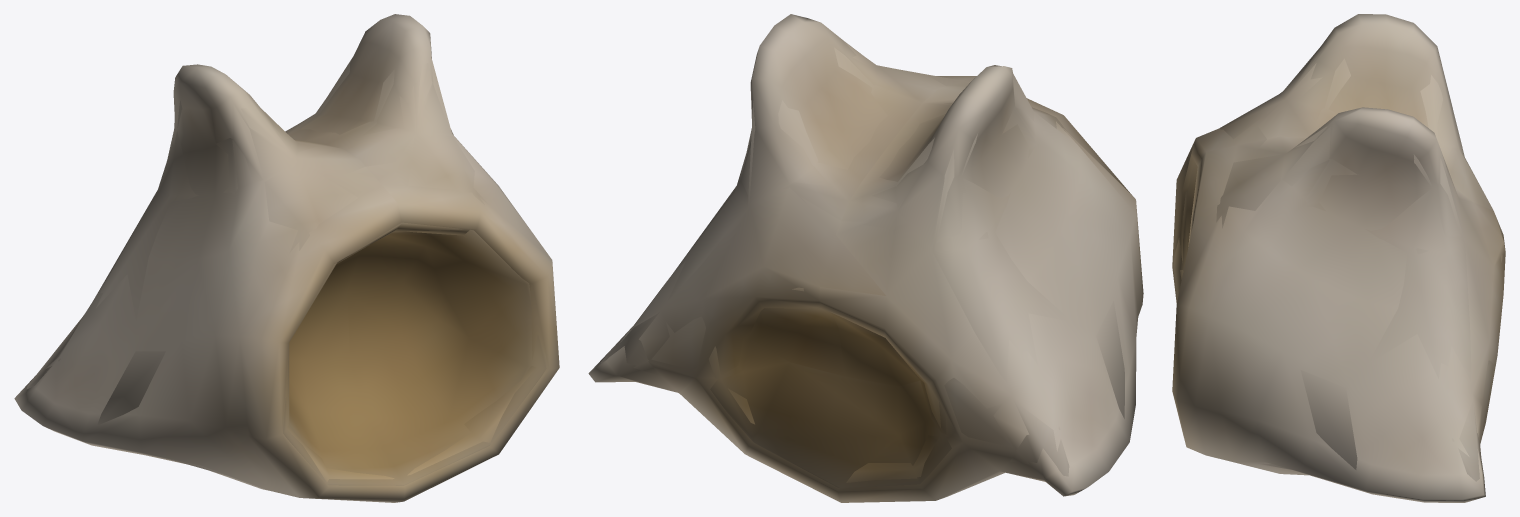
File: vertebrae caudales 04.fbx
3 views of the same model, side by side, from view 1: azimuth 30°, elevation 25°; view 2: azimuth 150°, elevation 25°; view 3: azimuth 270°, elevation 25° (orthographic). The views are drawn at different scales.
Visible parts, largest first — view 1: vertebrae caudales 04, vertebrae caudales 04 low; view 2: vertebrae caudales 04, vertebrae caudales 04 low; view 3: vertebrae caudales 04, vertebrae caudales 04 low.
Part boxes in pixels (bbox=[...]): vertebrae caudales 04: bbox=[14, 14, 559, 502]; vertebrae caudales 04 low: bbox=[26, 56, 546, 485]; vertebrae caudales 04: bbox=[588, 14, 1143, 502]; vertebrae caudales 04 low: bbox=[601, 43, 1124, 488]; vertebrae caudales 04: bbox=[1172, 14, 1505, 502]; vertebrae caudales 04 low: bbox=[1173, 41, 1502, 481].
Size of the model in its own units: 2.11 by 1.74 by 1.32.
Materials: 1 (1 with a texture image).
